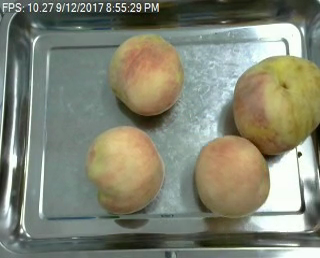Peach: (232, 53, 319, 155), (85, 125, 164, 214), (194, 134, 270, 219), (108, 33, 183, 114)
